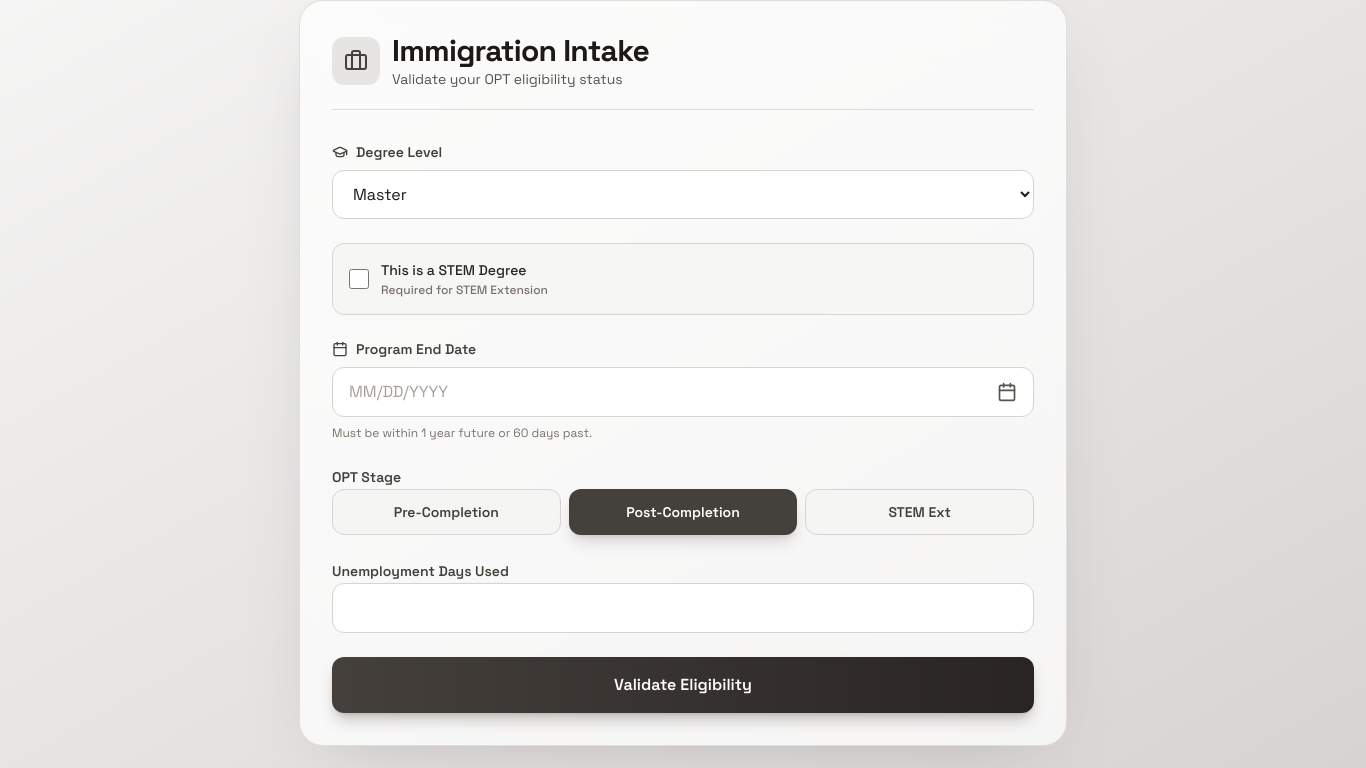
IntakeForm › renders success state and timeline from API
The image size is (1366, 768).
Click the button "Validate Eligibility".
click(683, 685)  # box x1=332 y1=657 x2=1034 y2=713
(page scrolled)
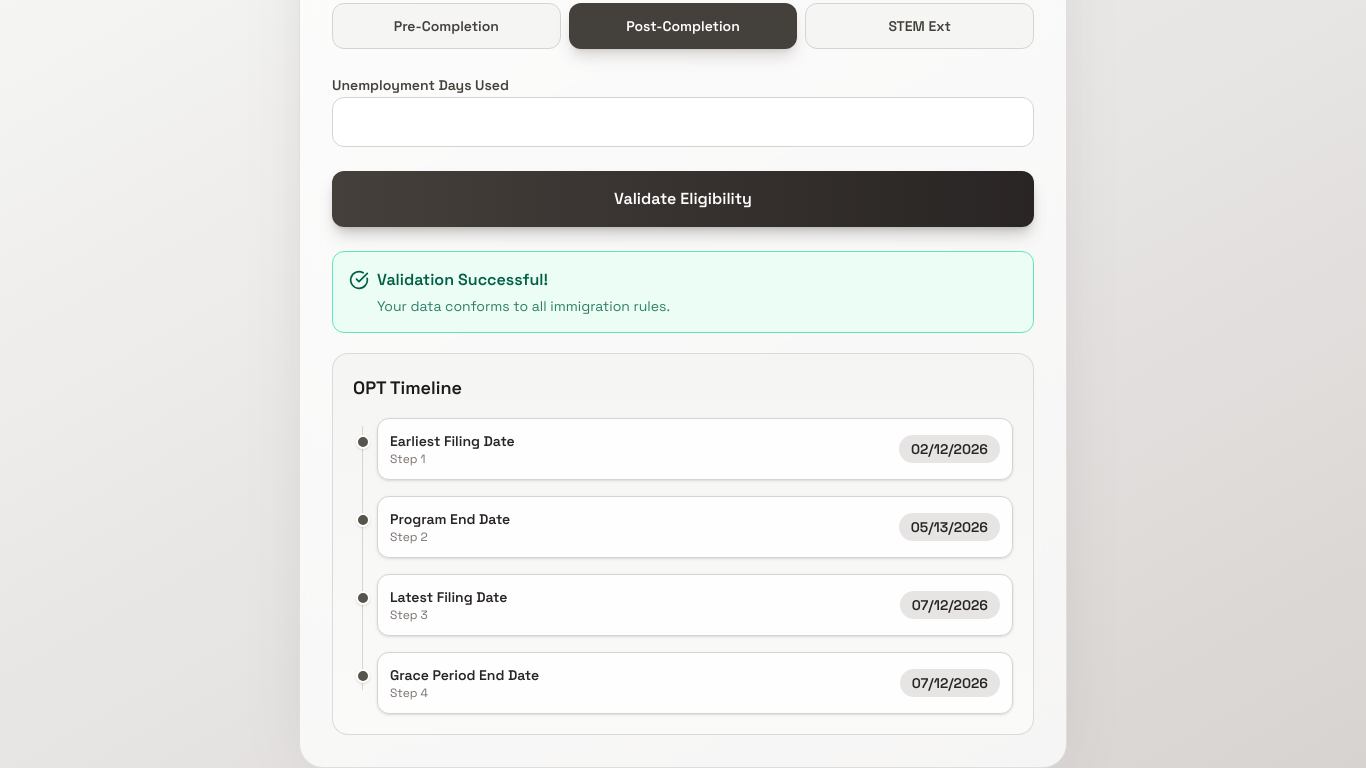
Now the text "Validation Successful!" is shown, box x1=377 y1=269 x2=548 y2=290
Now the heading "OPT Timeline" is shown, box x1=353 y1=376 x2=462 y2=399
Now the text "05/13/2026" is shown, box x1=899 y1=513 x2=1000 y2=541
